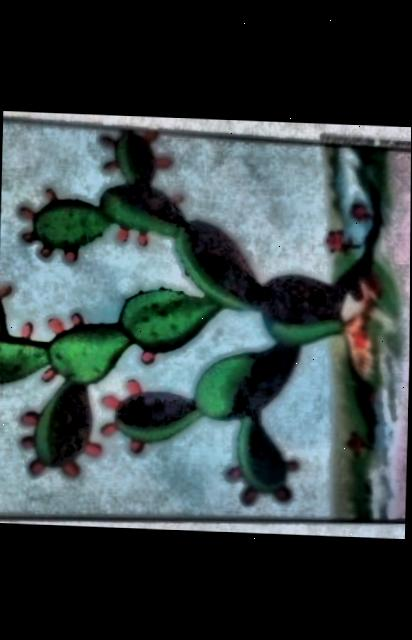El Nopal: (0, 118, 411, 520)
